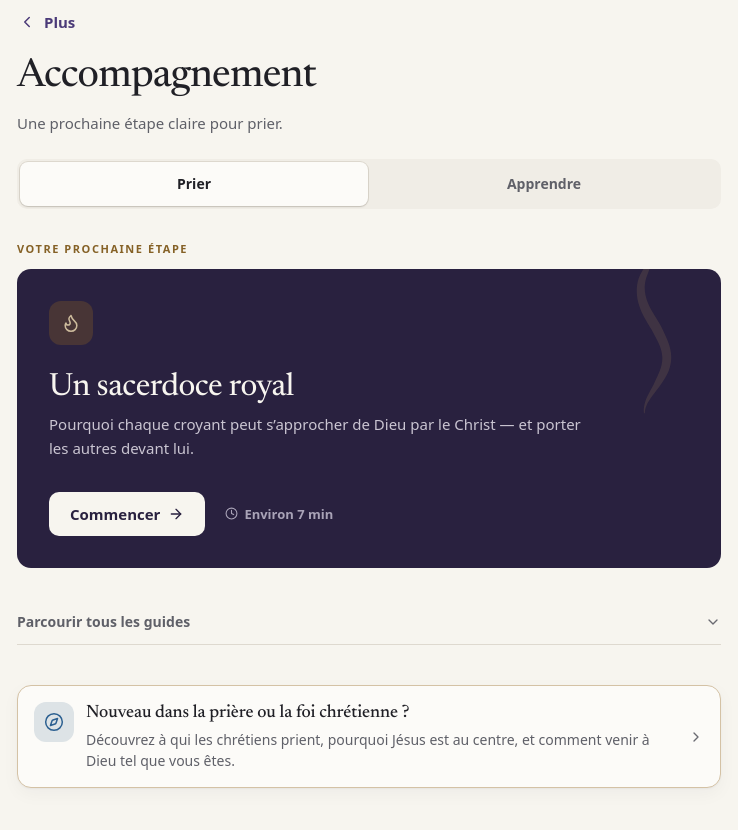
Test: GrowTab — one recommended next step › leads with exactly one next-step card (the first new guide) and folds the rest away
Expected: the heading "Votre prochaine étape" is shown, [17, 241, 188, 256]
Expected: the text "Un sacerdoce royal" is shown once, [49, 369, 294, 405]
What coordinates should you click on to do the following:
click the button "Parcourir tous les guides"
I would click on:
 (104, 622)
Its box is [17, 600, 721, 644].
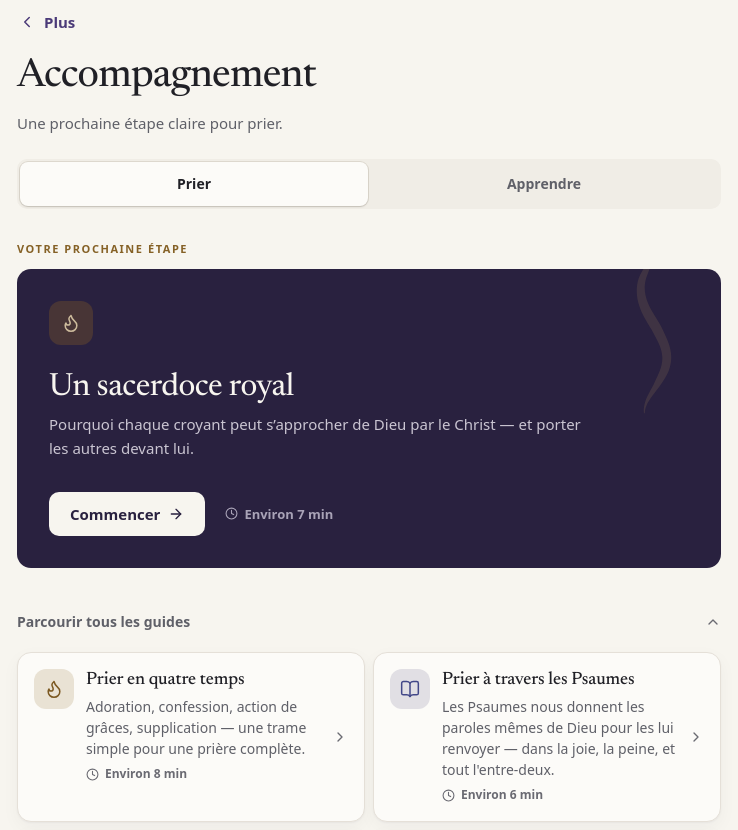
Expected: the text "Prier en quatre temps" is shown, [86, 671, 244, 689]
